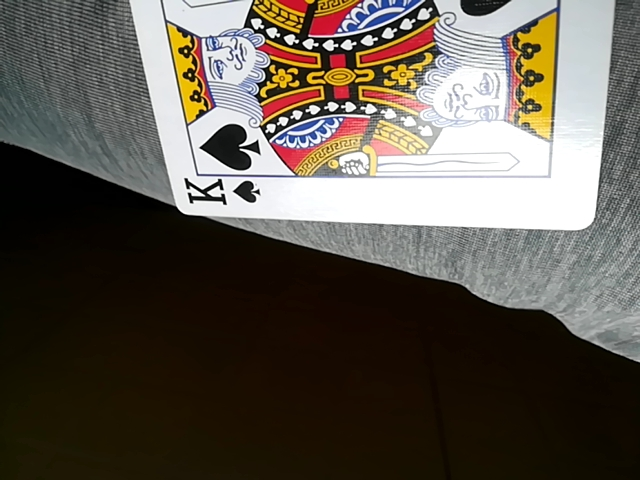ht k: (122, 1, 616, 232)
